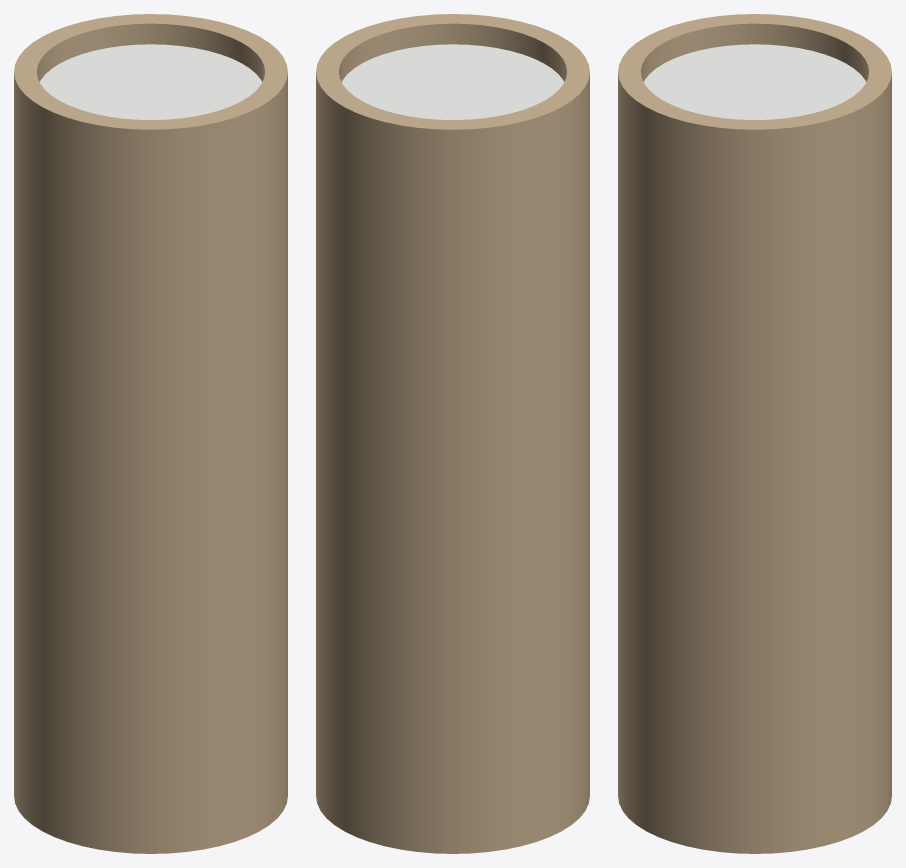
Rendered from Motor.fbx.
The picture shows the model from 3 angles, left to right: view 1: azimuth 30°, elevation 25°; view 2: azimuth 150°, elevation 25°; view 3: azimuth 270°, elevation 25°; orthographic projection.
Parts seen in each view (by area): view 1: Motor; view 2: Motor; view 3: Motor.
Part boxes in pixels (<box>): Motor: <box>14,14,287,853</box>; Motor: <box>316,14,589,853</box>; Motor: <box>618,14,891,853</box>.
Size of the model in its own units: 0.024 by 0.07 by 0.024.
